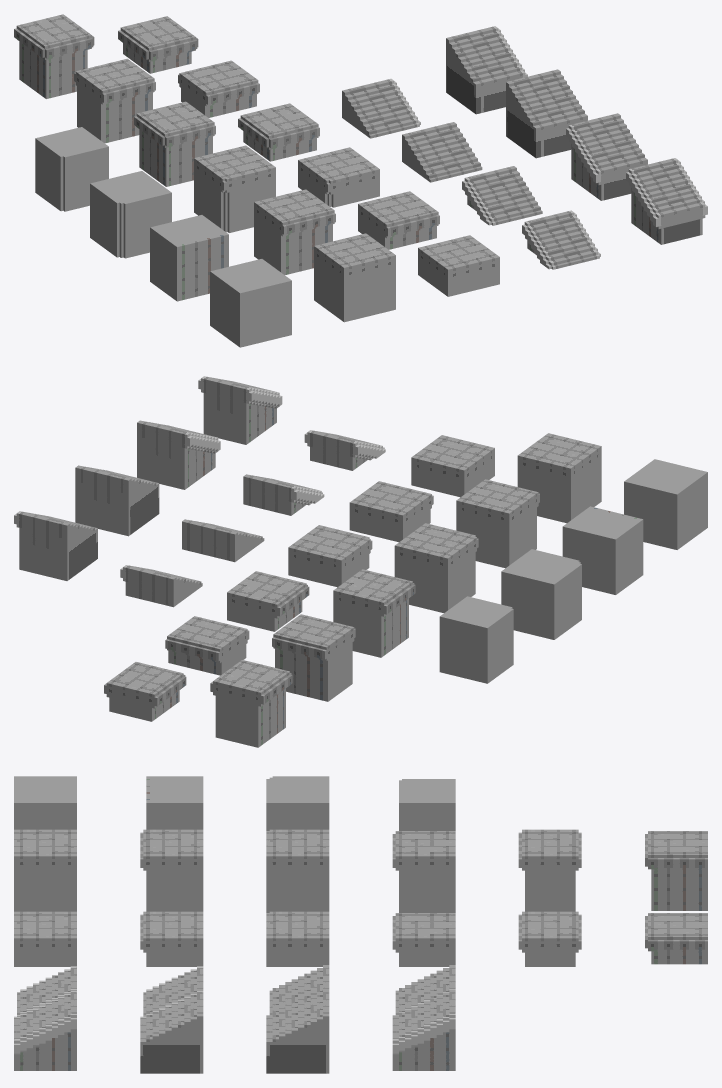
The model's file is world_2_tiles.glb.
The picture shows the model from 3 angles, top to bottom: view 1: azimuth 30°, elevation 25°; view 2: azimuth 150°, elevation 25°; view 3: azimuth 270°, elevation 25°; orthographic projection. The views are drawn at different scales.
Visible parts, largest first — view 1: full_no_edge, full_top_no_edge, full_corner, full_top_corner, full_edge, full_top_edge, half_ramp_full_middle, half_ramp_full, full_top_middle, half_ramp_full_right, full_top_turn, full_turn (+12 smaller); view 2: full_no_edge, full_corner, full_top_no_edge, full_top_corner, full_edge, full_turn, full_top_middle, full_top_edge, full_top_end, full_top_turn, half_ramp_full_middle, half_ramp_full_right (+12 smaller); view 3: full_top_corner, full_top_no_edge, full_top_edge, full_top_turn, full_top_end, full_top_middle, half_ramp_full_middle, half_ramp_full_left, half_ramp_full_right, half_ramp_full, half_top_corner, half_top_no_edge (+12 smaller).
Boxes of the visible parts, bbox=[...] form: full_no_edge: bbox=[210, 259, 291, 347]; full_top_no_edge: bbox=[314, 233, 395, 322]; full_corner: bbox=[90, 171, 171, 258]; full_top_corner: bbox=[194, 145, 275, 232]; full_edge: bbox=[150, 215, 228, 301]; full_top_edge: bbox=[254, 189, 335, 274]; half_ramp_full_middle: bbox=[506, 69, 587, 158]; half_ramp_full: bbox=[626, 158, 707, 244]; full_top_middle: bbox=[74, 58, 155, 143]; half_ramp_full_right: bbox=[446, 26, 527, 114]; full_top_turn: bbox=[134, 101, 215, 186]; full_turn: bbox=[35, 127, 108, 211]; full_no_edge: bbox=[624, 459, 707, 549]; full_corner: bbox=[501, 549, 581, 639]; full_top_no_edge: bbox=[517, 433, 601, 523]; full_top_corner: bbox=[394, 523, 478, 612]; full_edge: bbox=[562, 506, 643, 594]; full_turn: bbox=[439, 596, 513, 683]; full_top_middle: bbox=[272, 614, 355, 701]; full_top_edge: bbox=[456, 479, 539, 568]; full_top_end: bbox=[210, 660, 292, 747]; full_top_turn: bbox=[333, 569, 415, 657]; half_ramp_full_middle: bbox=[75, 465, 159, 536]; half_ramp_full_right: bbox=[14, 511, 97, 580]; full_top_corner: bbox=[266, 829, 329, 912]; full_top_no_edge: bbox=[14, 829, 76, 911]; full_top_edge: bbox=[140, 829, 203, 911]; full_top_turn: bbox=[392, 831, 455, 912]; full_top_end: bbox=[645, 831, 707, 910]; full_top_middle: bbox=[518, 829, 581, 911]; half_ramp_full_middle: bbox=[266, 989, 329, 1073]; half_ramp_full_left: bbox=[140, 991, 203, 1073]; half_ramp_full_right: bbox=[392, 989, 455, 1070]; half_ramp_full: bbox=[14, 991, 76, 1070]; half_top_corner: bbox=[266, 911, 329, 966]; half_top_no_edge: bbox=[14, 911, 76, 966].
Size of the model in its own units: 18 by 2 by 22.
Materials: 24 (24 with a texture image).
